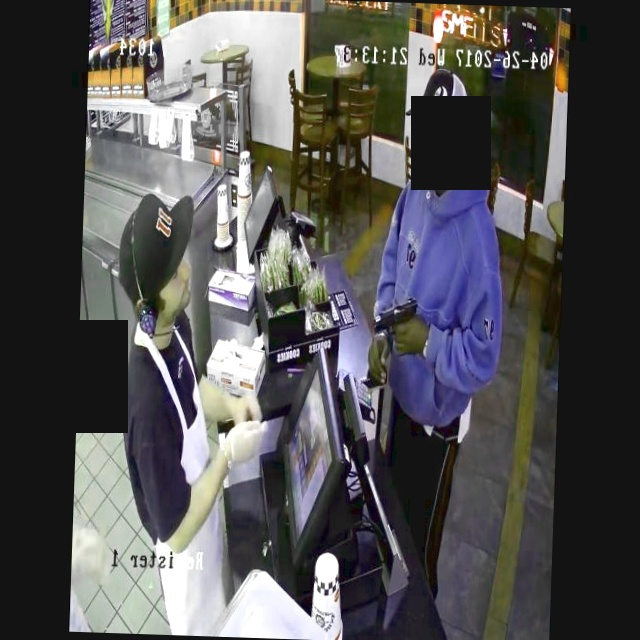gun: (357, 279, 437, 363)
